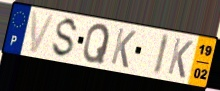I: (152, 32, 171, 77)
K: (109, 26, 138, 70), (166, 36, 195, 80)
Q: (81, 22, 112, 65)
S: (50, 16, 80, 60)
V: (29, 10, 57, 55)
